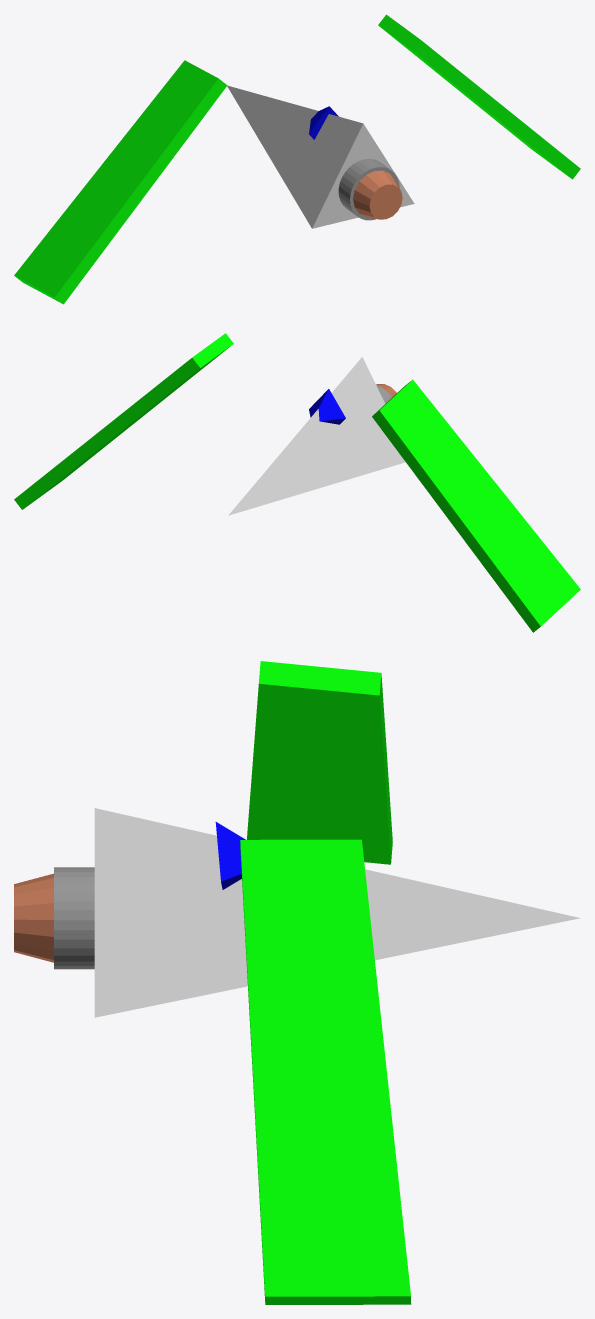
The model's file is quantumSpearOne.gltf.
The picture shows the model from 3 angles, top to bottom: view 1: azimuth 30°, elevation 25°; view 2: azimuth 150°, elevation 25°; view 3: azimuth 270°, elevation 25°; orthographic projection. The views are drawn at different scales.
Parts seen in each view (by area): view 1: RightWing, MainBody, LeftWing, TurbineExhaust, TurbineBody, Cockpit; view 2: RightWing, MainBody, LeftWing, Cockpit; view 3: LeftWing, MainBody, RightWing, TurbineBody, TurbineExhaust, Cockpit.
Boxes of the visible parts, x1,y1,x2,y2 form: RightWing: [14, 60, 227, 304]; MainBody: [227, 85, 414, 228]; LeftWing: [378, 14, 580, 179]; TurbineExhaust: [353, 170, 402, 219]; TurbineBody: [338, 158, 399, 220]; Cockpit: [309, 106, 338, 139]; RightWing: [372, 379, 580, 632]; MainBody: [228, 357, 405, 515]; LeftWing: [14, 333, 233, 509]; Cockpit: [309, 389, 345, 424]; LeftWing: [240, 839, 411, 1304]; MainBody: [94, 808, 580, 1017]; RightWing: [247, 661, 392, 864]; TurbineBody: [54, 867, 94, 969]; TurbineExhaust: [14, 873, 53, 962]; Cockpit: [215, 822, 245, 889].
Bounding box in the file's own units: 4.48 × 1.55 × 2.33.
